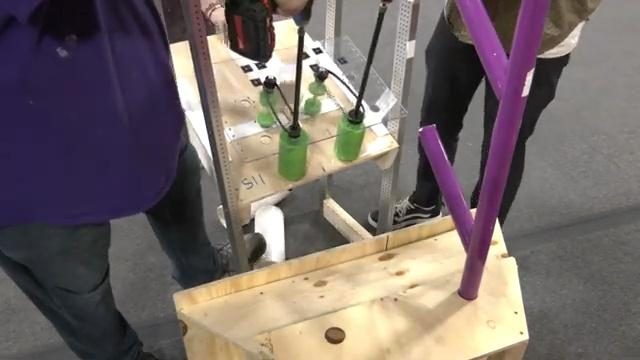CORAL: (255, 207, 286, 266)
